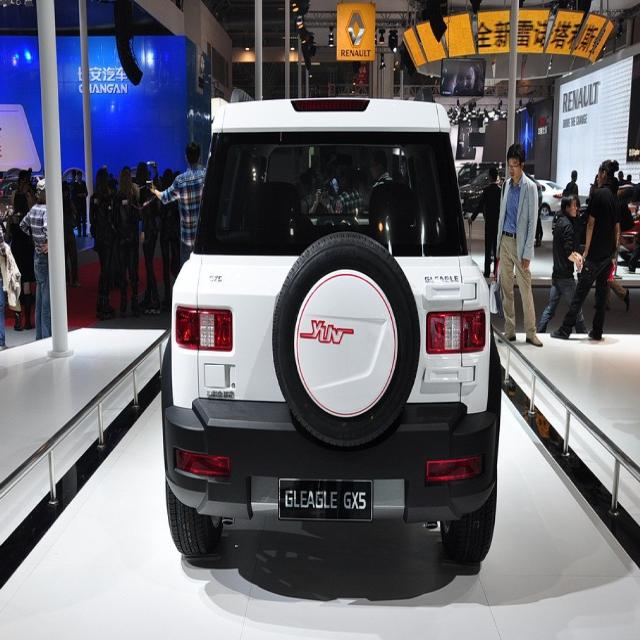back_glass: (193, 128, 470, 258)
back_left_side_light: (173, 300, 235, 356)
back_right_side_light: (424, 308, 487, 356)
rear_bumper: (160, 396, 498, 526)
wheel: (272, 230, 421, 452)
